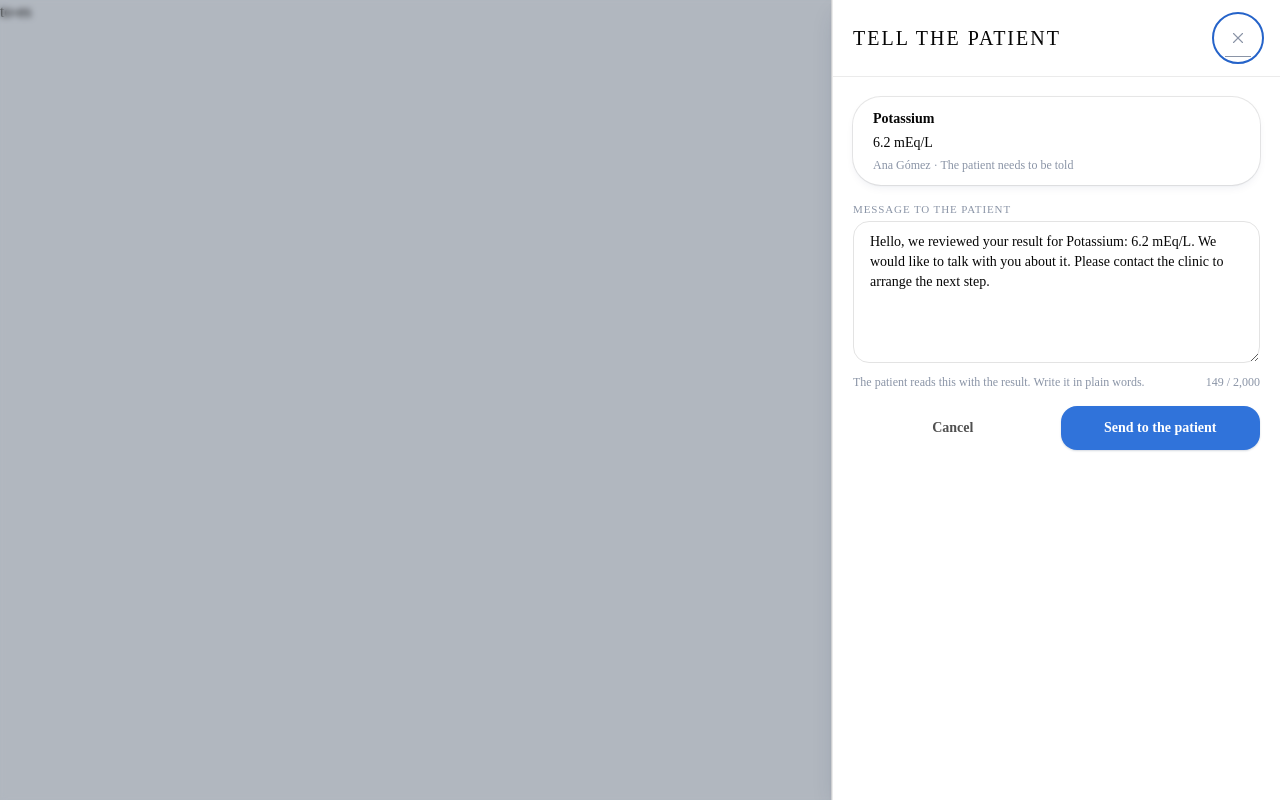
InformPatientSheet › says plainly when nobody was notified because the patient has no portal access
The width and height of the screenshot is (1280, 800).
Click the button "Send to the patient" at point(1160, 428), box [1060,406,1260,450]
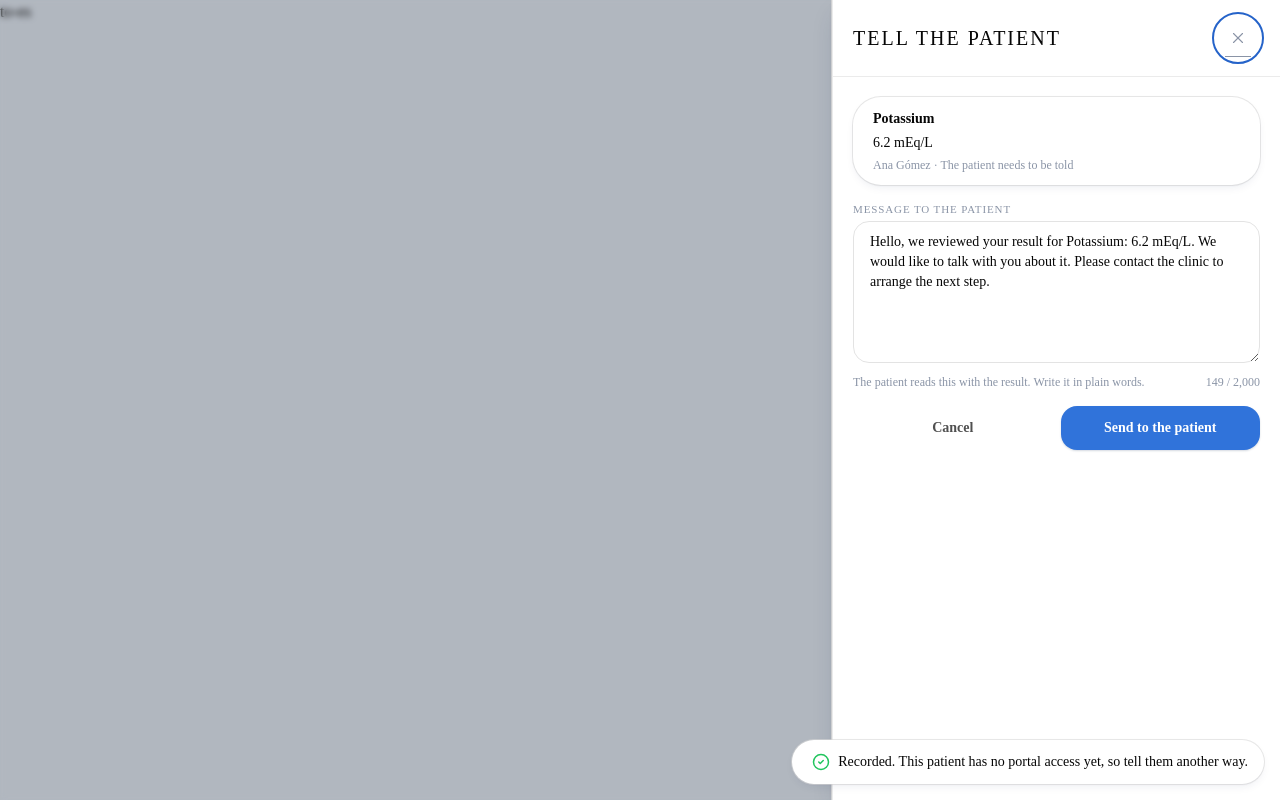
Expected: the text "Recorded. This patient has no portal access yet, so tell them another way." is shown, [792,740,1264,784]
